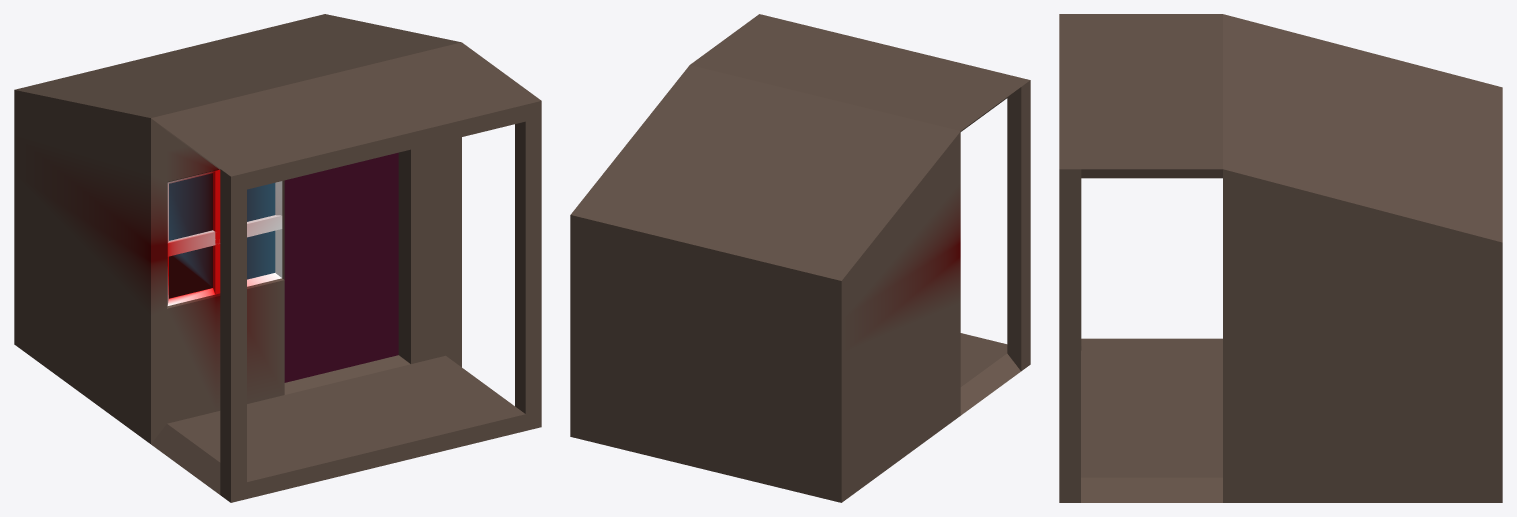
File: fishing_hut.fbx
3 renders of one model, left to right at view 1: azimuth 30°, elevation 25°; view 2: azimuth 150°, elevation 25°; view 3: azimuth 270°, elevation 25°, orthographic. The views are drawn at different scales.
Visible parts, largest first — view 1: Hut; view 2: Hut; view 3: Hut.
Boxes of the visible parts, x1,y1,x2,y2 form: Hut: [14, 14, 541, 502]; Hut: [570, 14, 1030, 502]; Hut: [1059, 14, 1502, 502].
Bounding box in the file's own units: 596 × 598 × 720.
